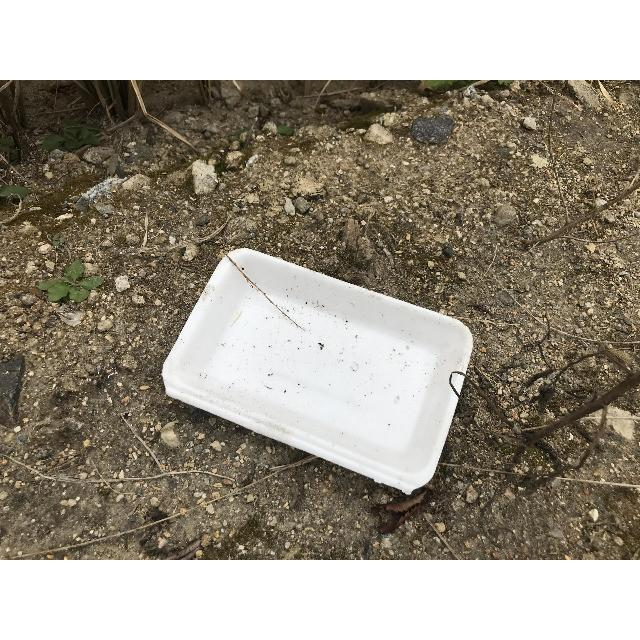Recipiente plastico: (164, 251, 472, 493)
